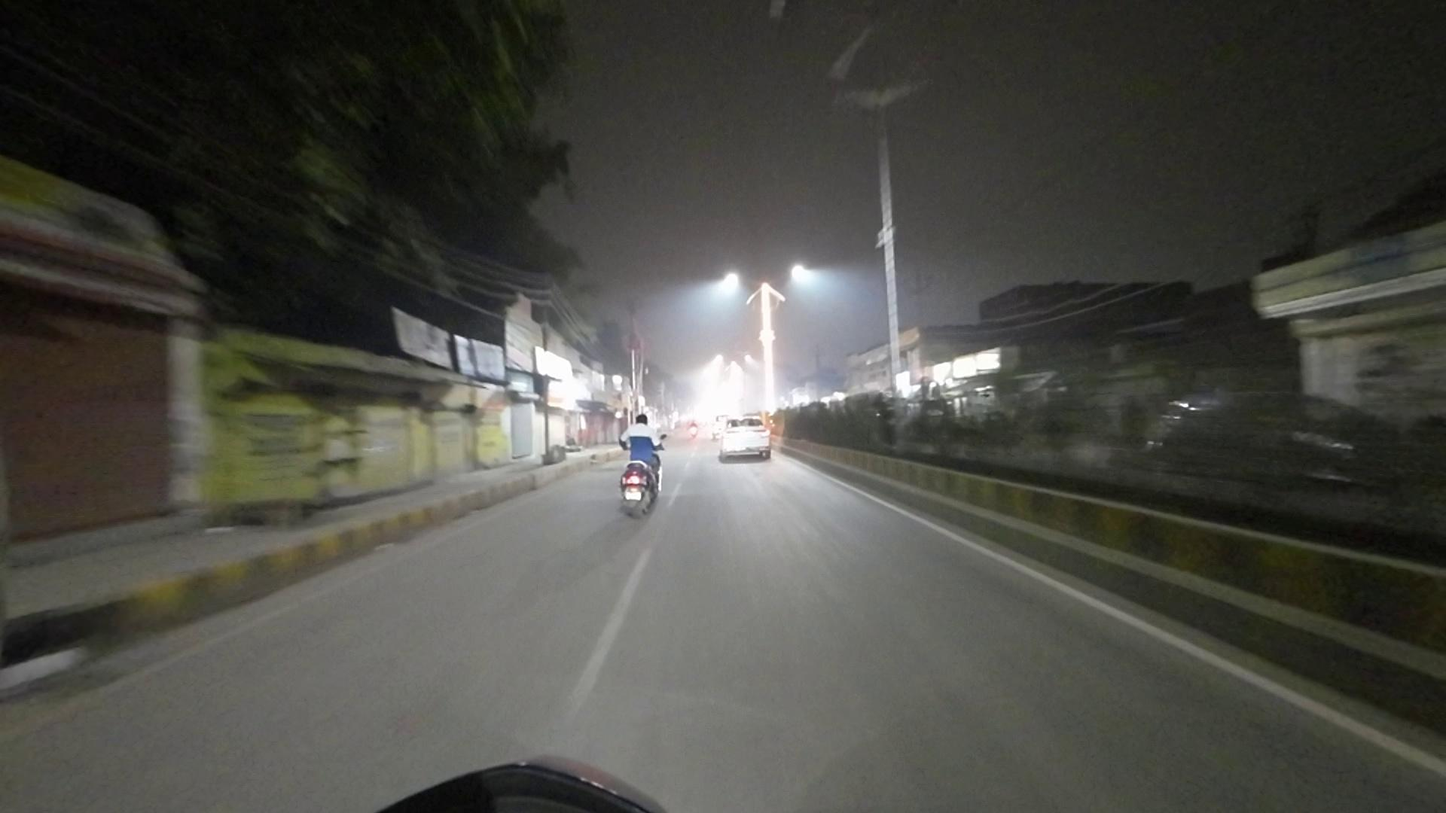streetlight: (766, 0, 868, 37)
